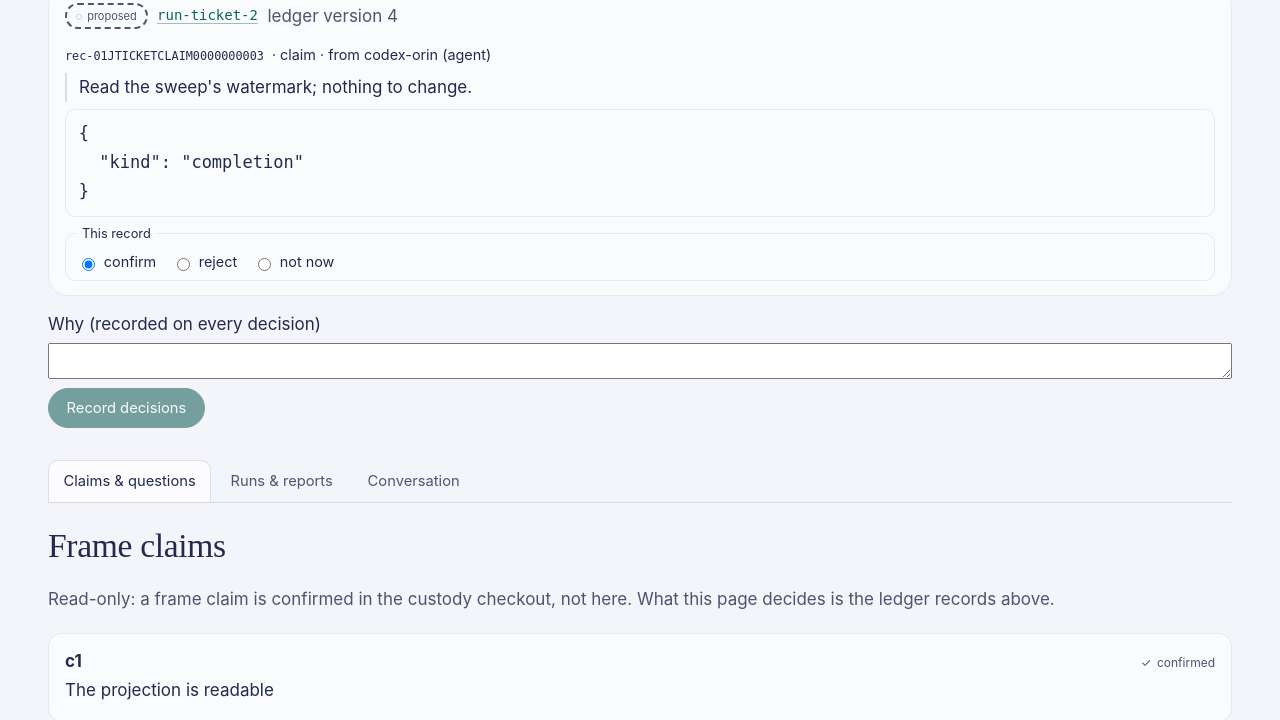
TicketView claim reviews (task t12) › keeps the single submit refused until a rationale is stated
(page scrolled)
Expected: the button "Record decisions" is disabled, left=48, top=388, right=205, bottom=428
Type "read both claims" into the text box labelled "Why (recorded on every decision)".
click(640, 360); type("read both claims")  # box left=48, top=342, right=1232, bottom=378
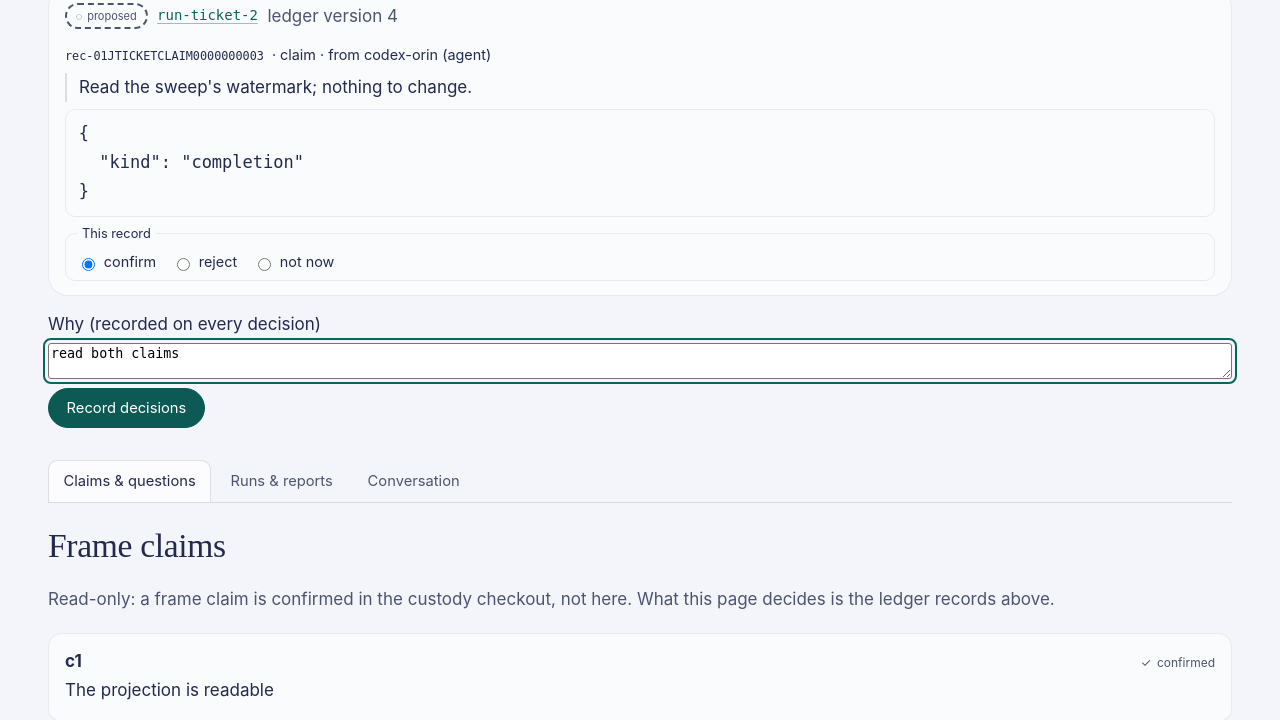
Expected: the button "Record decisions" is enabled, left=48, top=388, right=205, bottom=428
